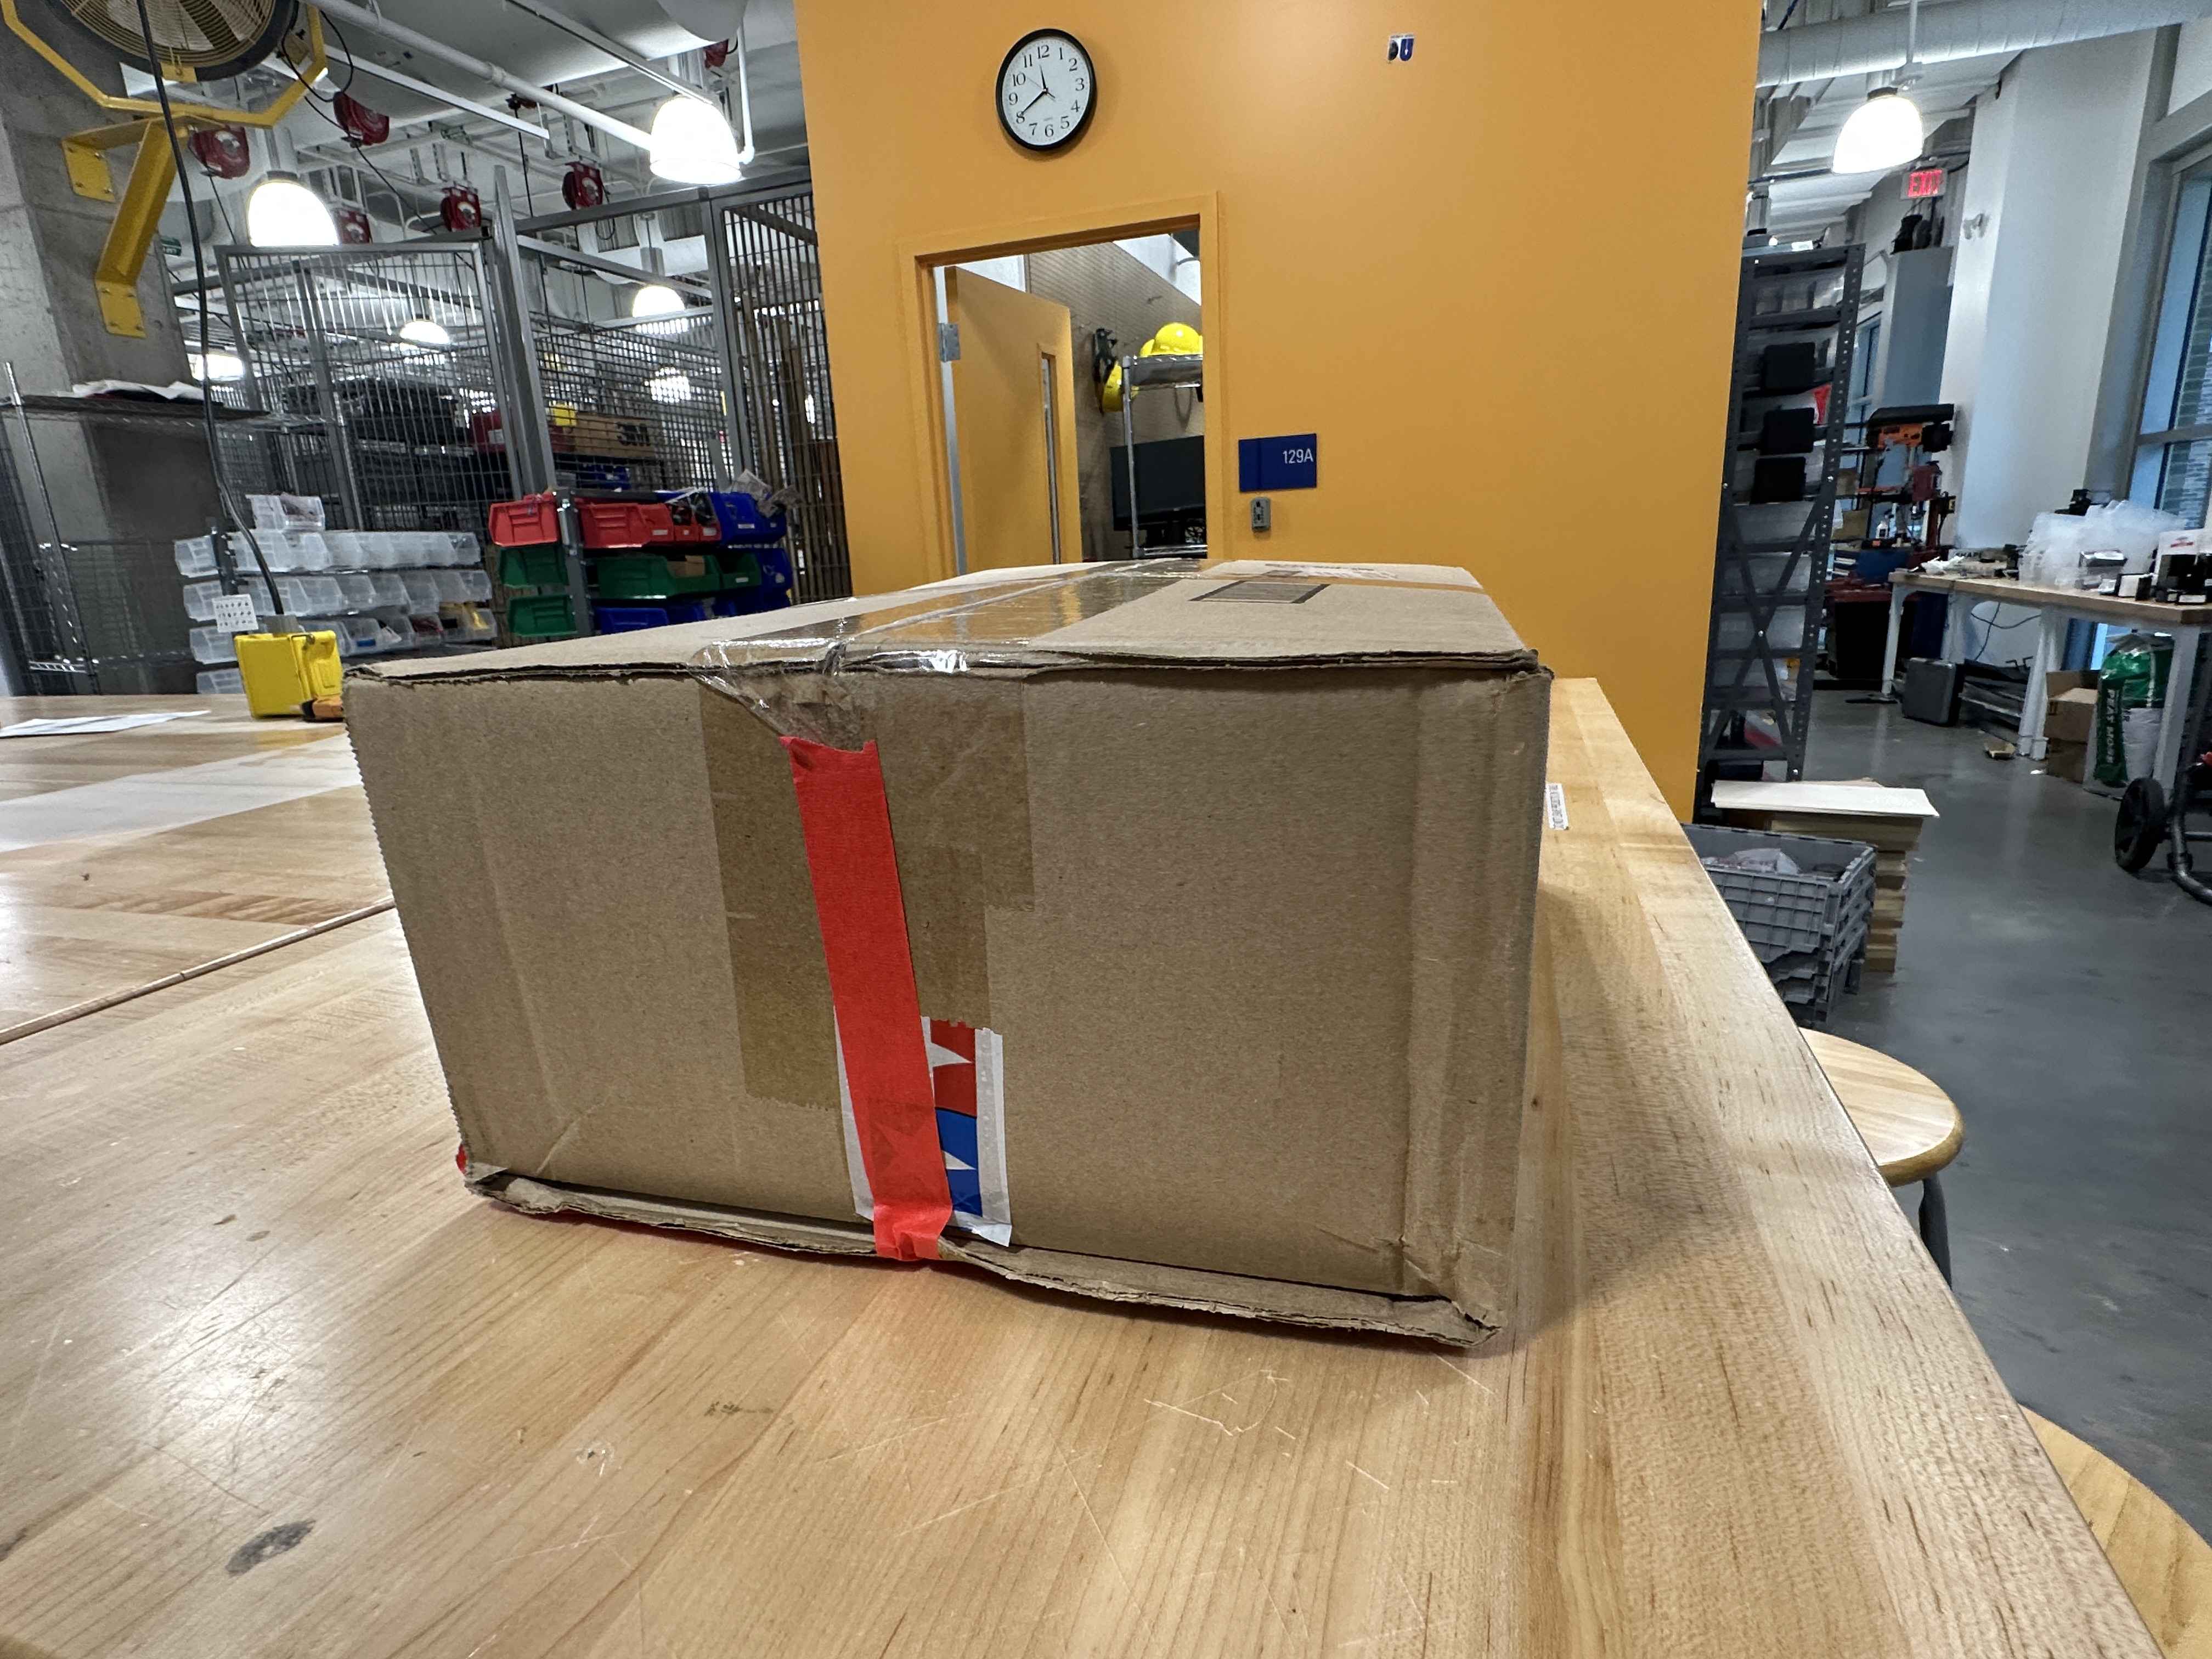Box_Obstacle: (324, 547, 1606, 1366)
